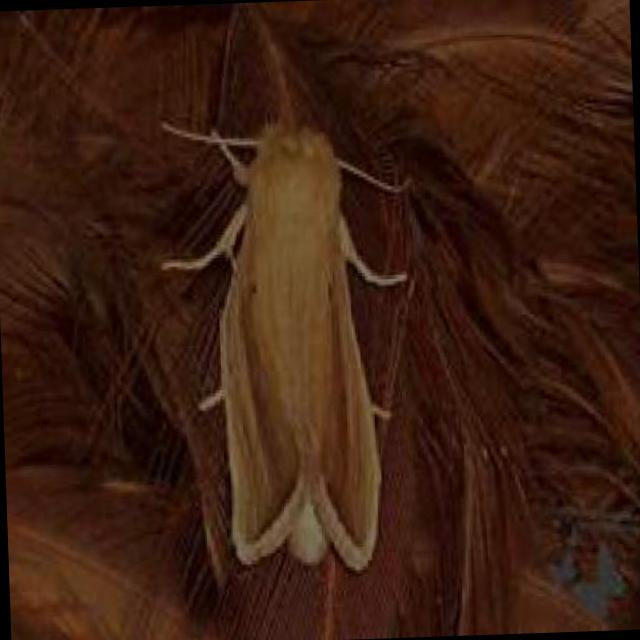stem-borer: (206, 108, 392, 591)
